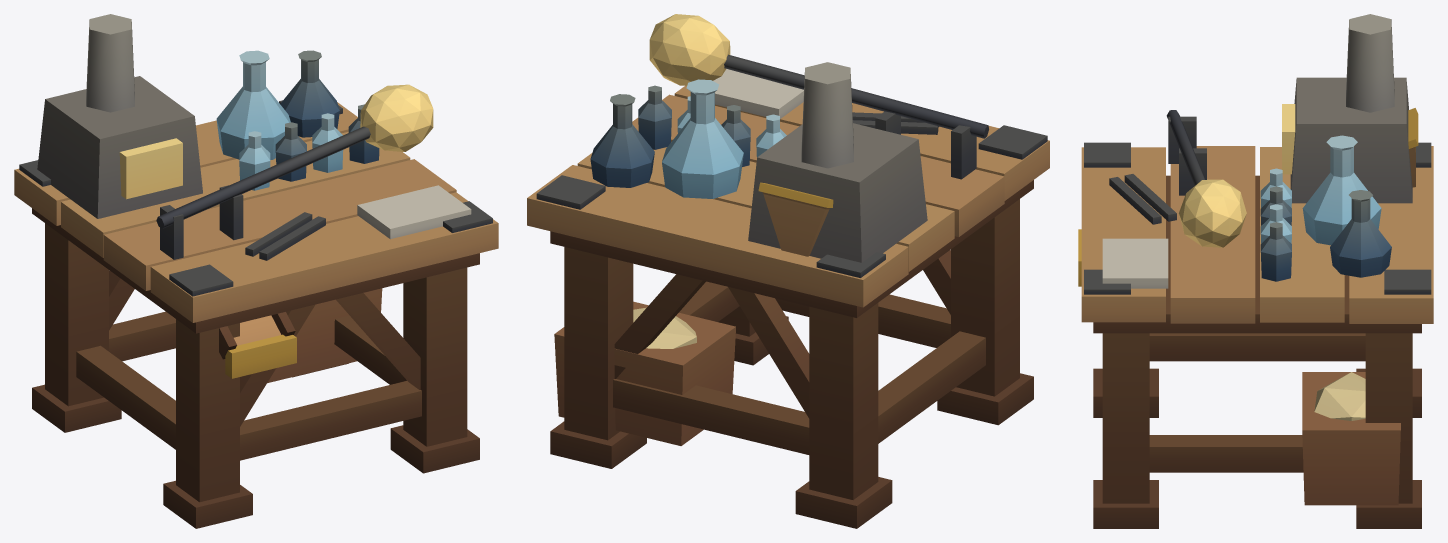
File: mach_glassbench.glb
3 views of the same model, side by side, from view 1: azimuth 30°, elevation 25°; view 2: azimuth 150°, elevation 25°; view 3: azimuth 270°, elevation 25° (orthographic). The views are drawn at different scales.
Parts seen in each view (by area): view 1: mach_glassbench; view 2: mach_glassbench; view 3: mach_glassbench.
Part boxes in pixels (<box>): mach_glassbench: <box>14,14,498,528</box>; mach_glassbench: <box>527,14,1049,528</box>; mach_glassbench: <box>1078,14,1433,528</box>.
Size of the model in its own units: 3.84 by 4.6 by 3.79.
1 material, 1 textured.
